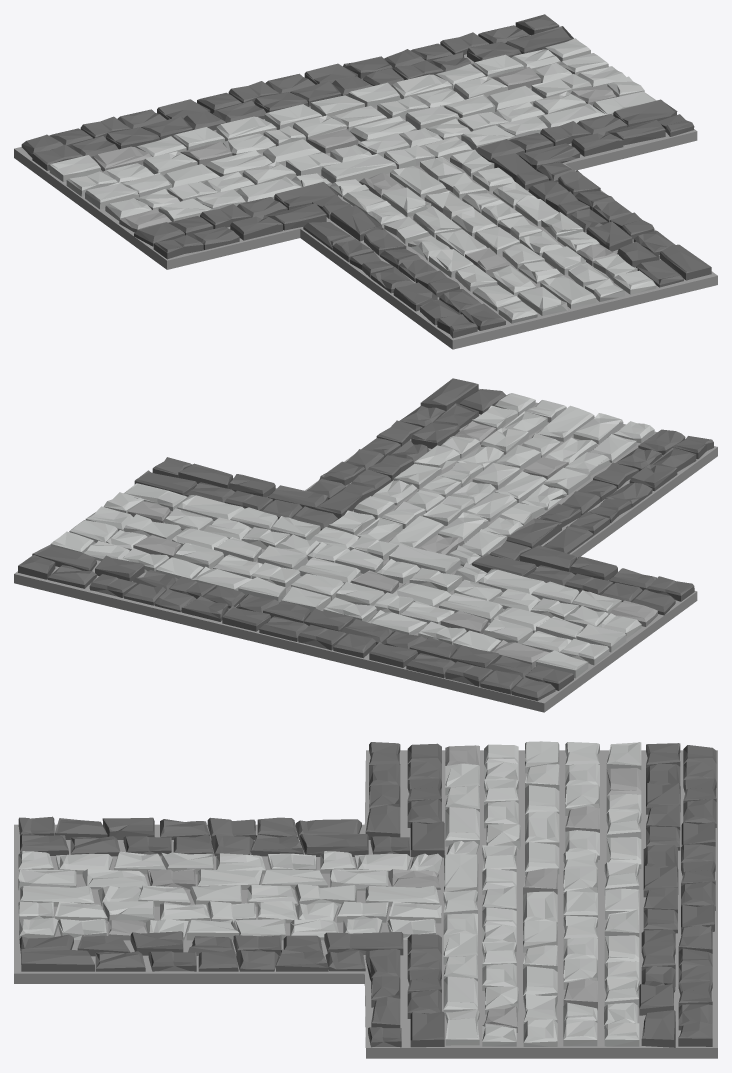
File: aStoneRoad1.obj
The picture shows the model from 3 angles, top to bottom: view 1: azimuth 30°, elevation 25°; view 2: azimuth 150°, elevation 25°; view 3: azimuth 270°, elevation 25°; orthographic projection. The views are drawn at different scales.
Visible parts, largest first — view 1: road_breek_2_Mesh.049; view 2: road_breek_2_Mesh.049; view 3: road_breek_2_Mesh.049.
Part boxes in pixels (box(x1,y1,x2,y2)): road_breek_2_Mesh.049: box(14, 14, 717, 349); road_breek_2_Mesh.049: box(14, 378, 717, 712); road_breek_2_Mesh.049: box(14, 741, 717, 1058).
Bounding box in the file's own units: 6 × 0.2015 × 6.
